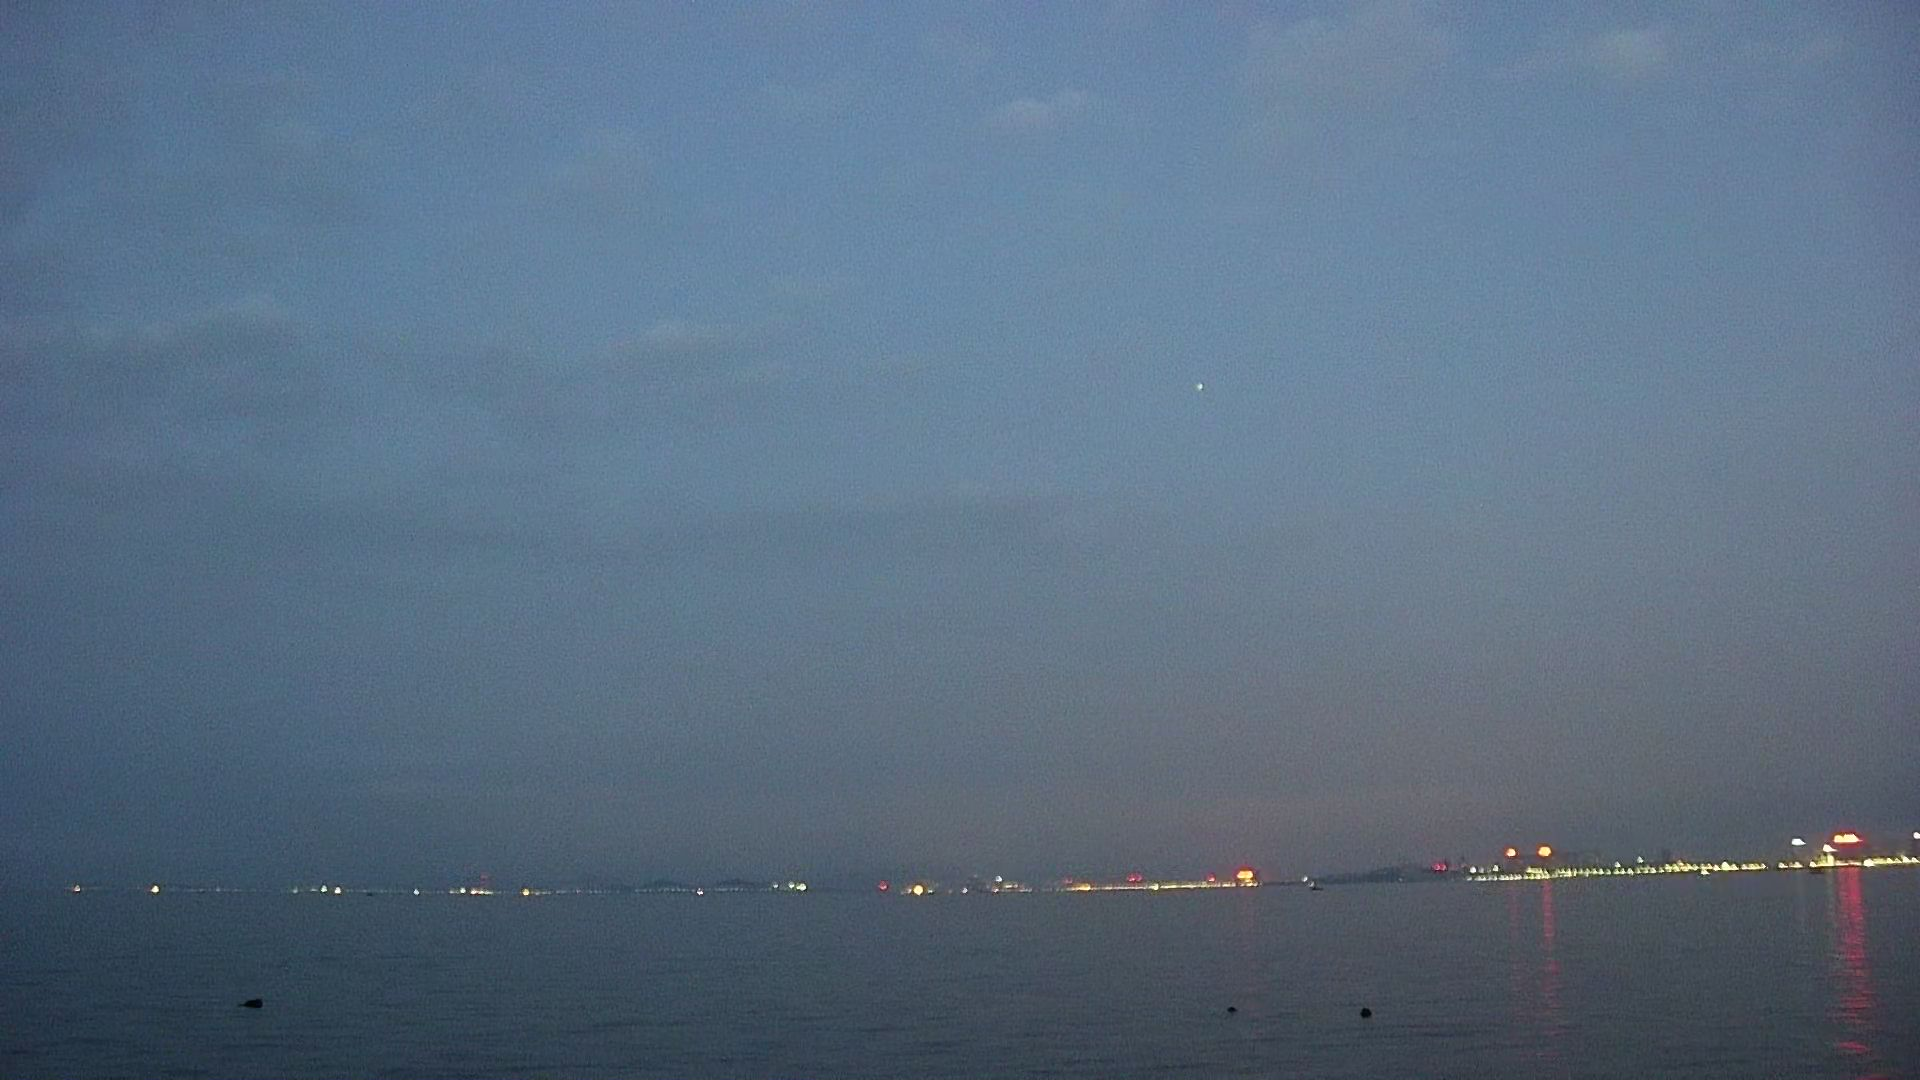ball: (1353, 998, 1389, 1030), (1221, 1006, 1251, 1023)
rubbish: (229, 982, 273, 1023)
